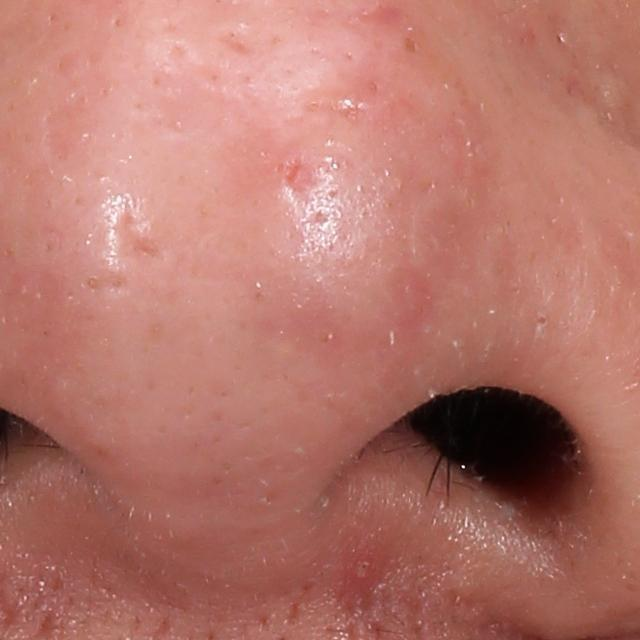atrophic_scar: (108, 201, 170, 279), (214, 25, 258, 58)
comedo: (533, 311, 553, 329)
